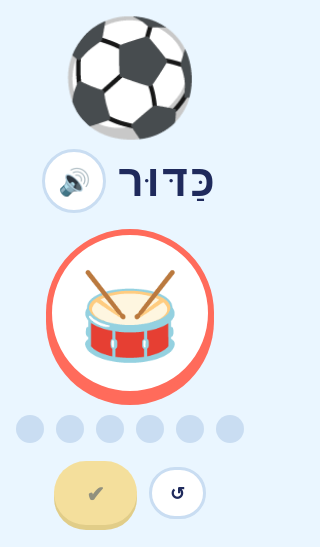
Test: ClapGame › resets the claps and does not check with none
Check: the button with class "cta" is disabled, box [54,461,137,525]
Click the button "🥁": (130, 313) [46,229,214,397]
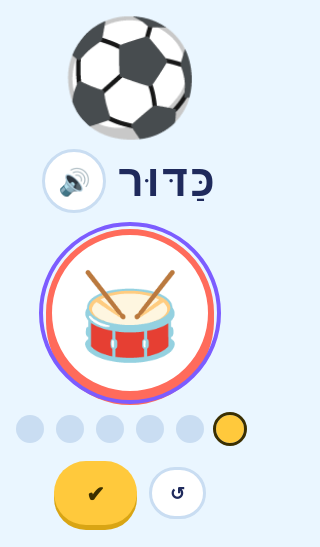
Click the button "↺": (177, 493) [149,467,206,519]
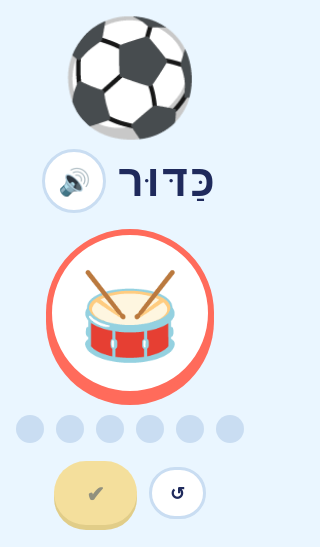
Check: the button with class "cta" is disabled, box [54,461,137,525]
